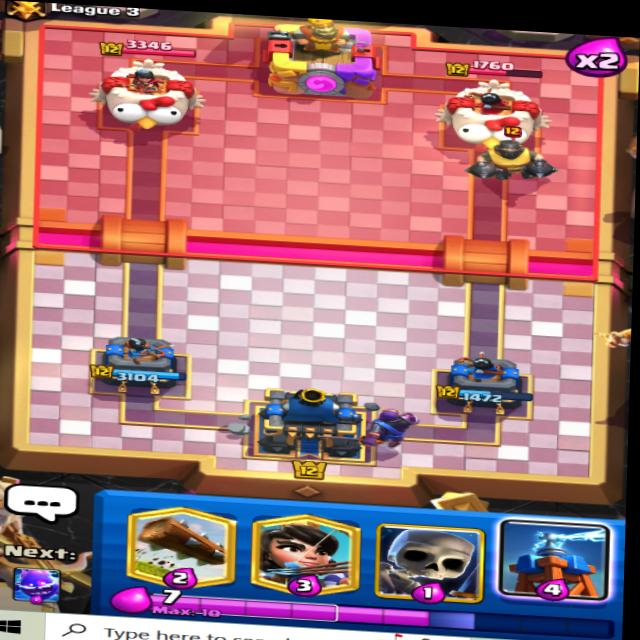mega-knight: (473, 118, 549, 190)
